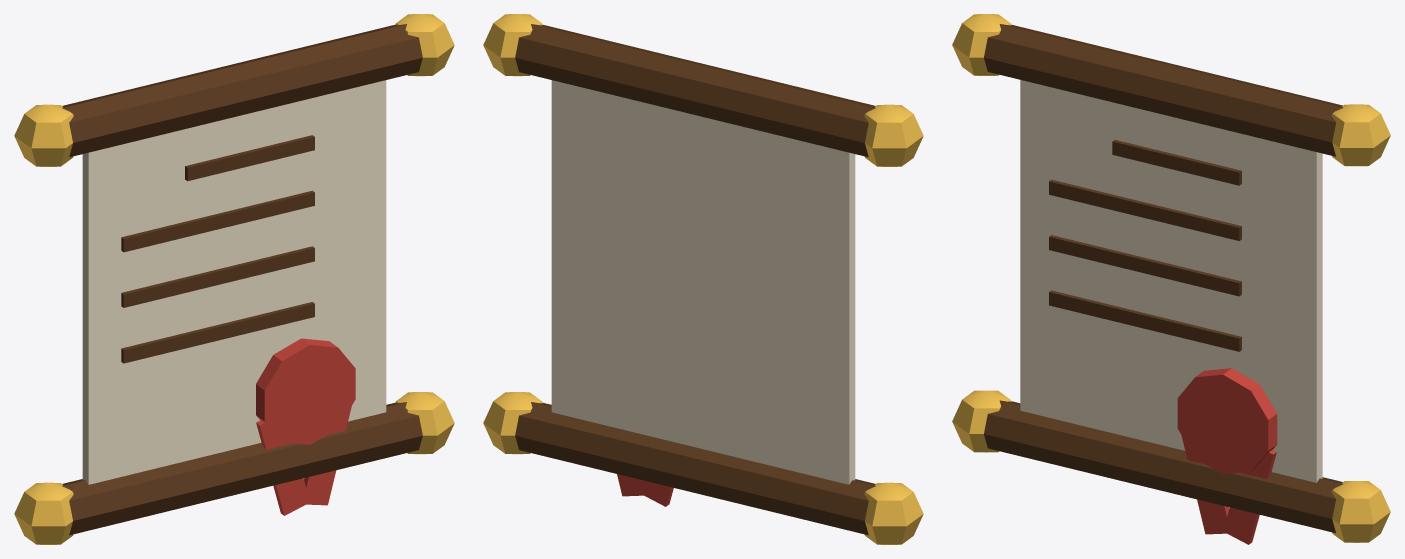
The model's file is PR_Intro_Ferman.fbx.
The picture shows the model from 3 angles, left to right: view 1: azimuth 30°, elevation 25°; view 2: azimuth 150°, elevation 25°; view 3: azimuth 330°, elevation 25°; orthographic projection.
Visible parts, largest first — view 1: PR_Intro_Ferman; view 2: PR_Intro_Ferman; view 3: PR_Intro_Ferman.
Part boxes in pixels (box(x1,y1,x2,y2)): PR_Intro_Ferman: box(14, 14, 454, 544); PR_Intro_Ferman: box(483, 14, 923, 544); PR_Intro_Ferman: box(952, 14, 1390, 544).
Size of the model in its own units: 0.3985 by 0.4147 by 0.056.
